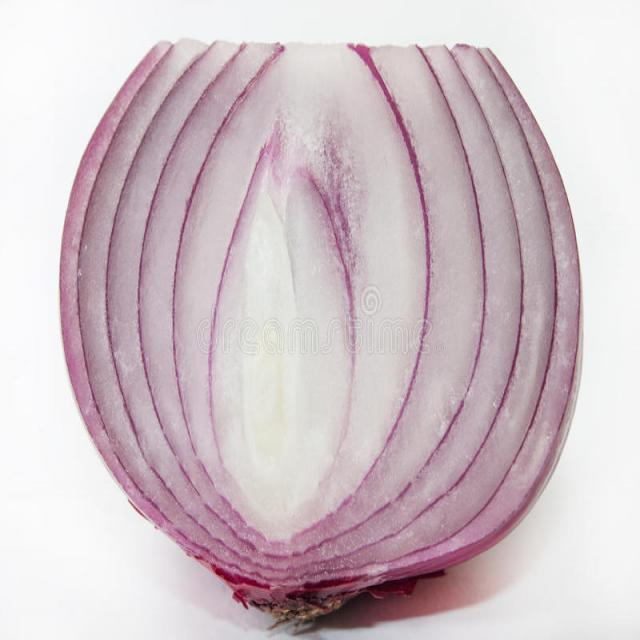onion: (60, 37, 585, 635)
